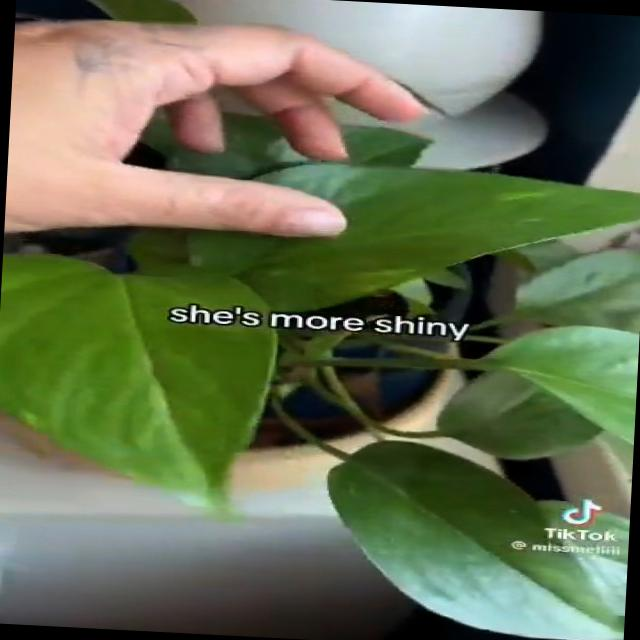roslina_zdrowa: (0, 108, 640, 640)
